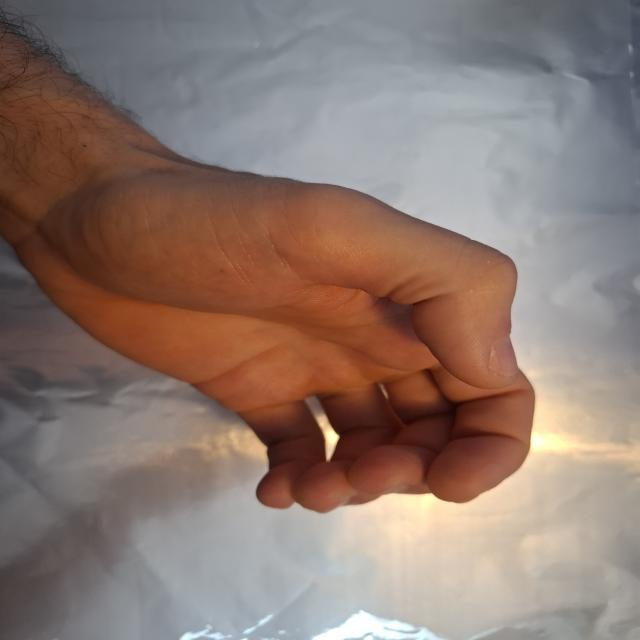glove_off: (6, 130, 539, 517)
